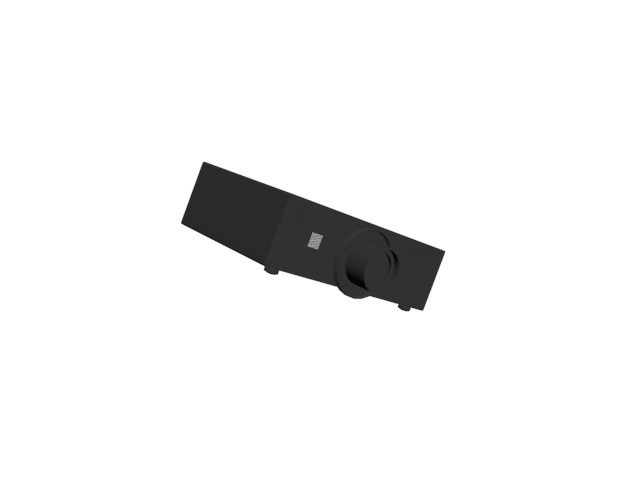projector: (177, 161, 448, 312)
